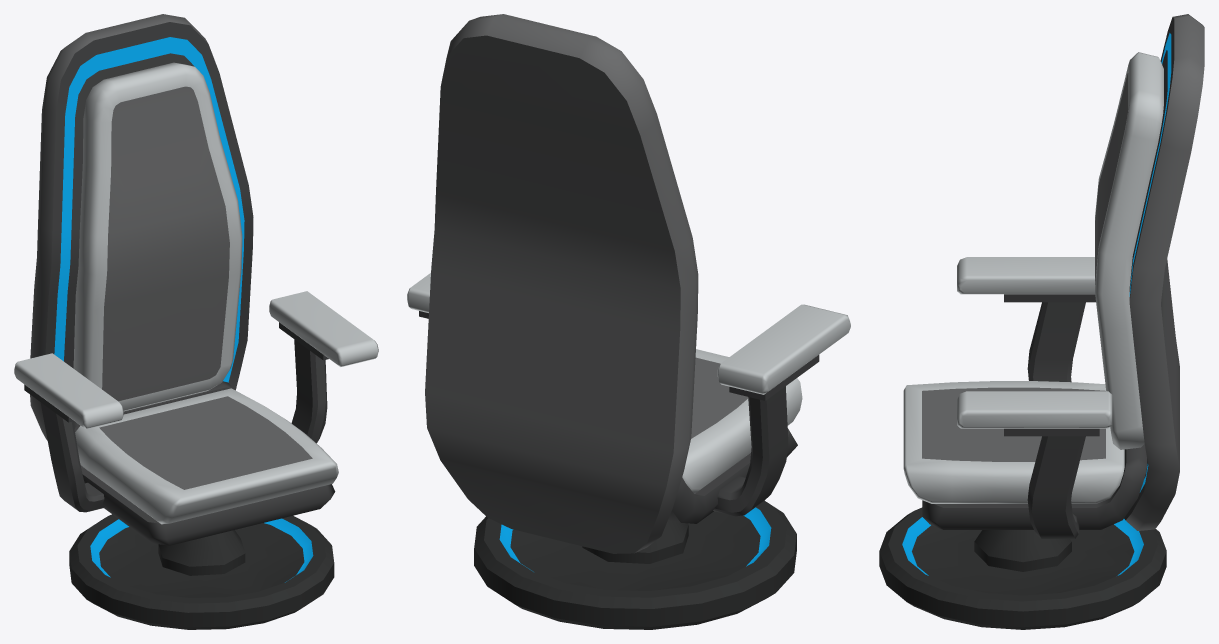
Rendered from Armchair_001.glb.
3 renders of one model, left to right at view 1: azimuth 30°, elevation 25°; view 2: azimuth 150°, elevation 25°; view 3: azimuth 270°, elevation 25°, orthographic. The views are drawn at different scales.
Visible parts, largest first — view 1: Armchair_001; view 2: Armchair_001; view 3: Armchair_001.
Boxes of the visible parts, x1,y1,x2,y2 form: Armchair_001: (14,14,378,629); Armchair_001: (407,14,850,629); Armchair_001: (879,14,1204,629).
Bounding box in the file's own units: 0.9047 × 1.45 × 0.7987.
2 materials, 2 textured.
